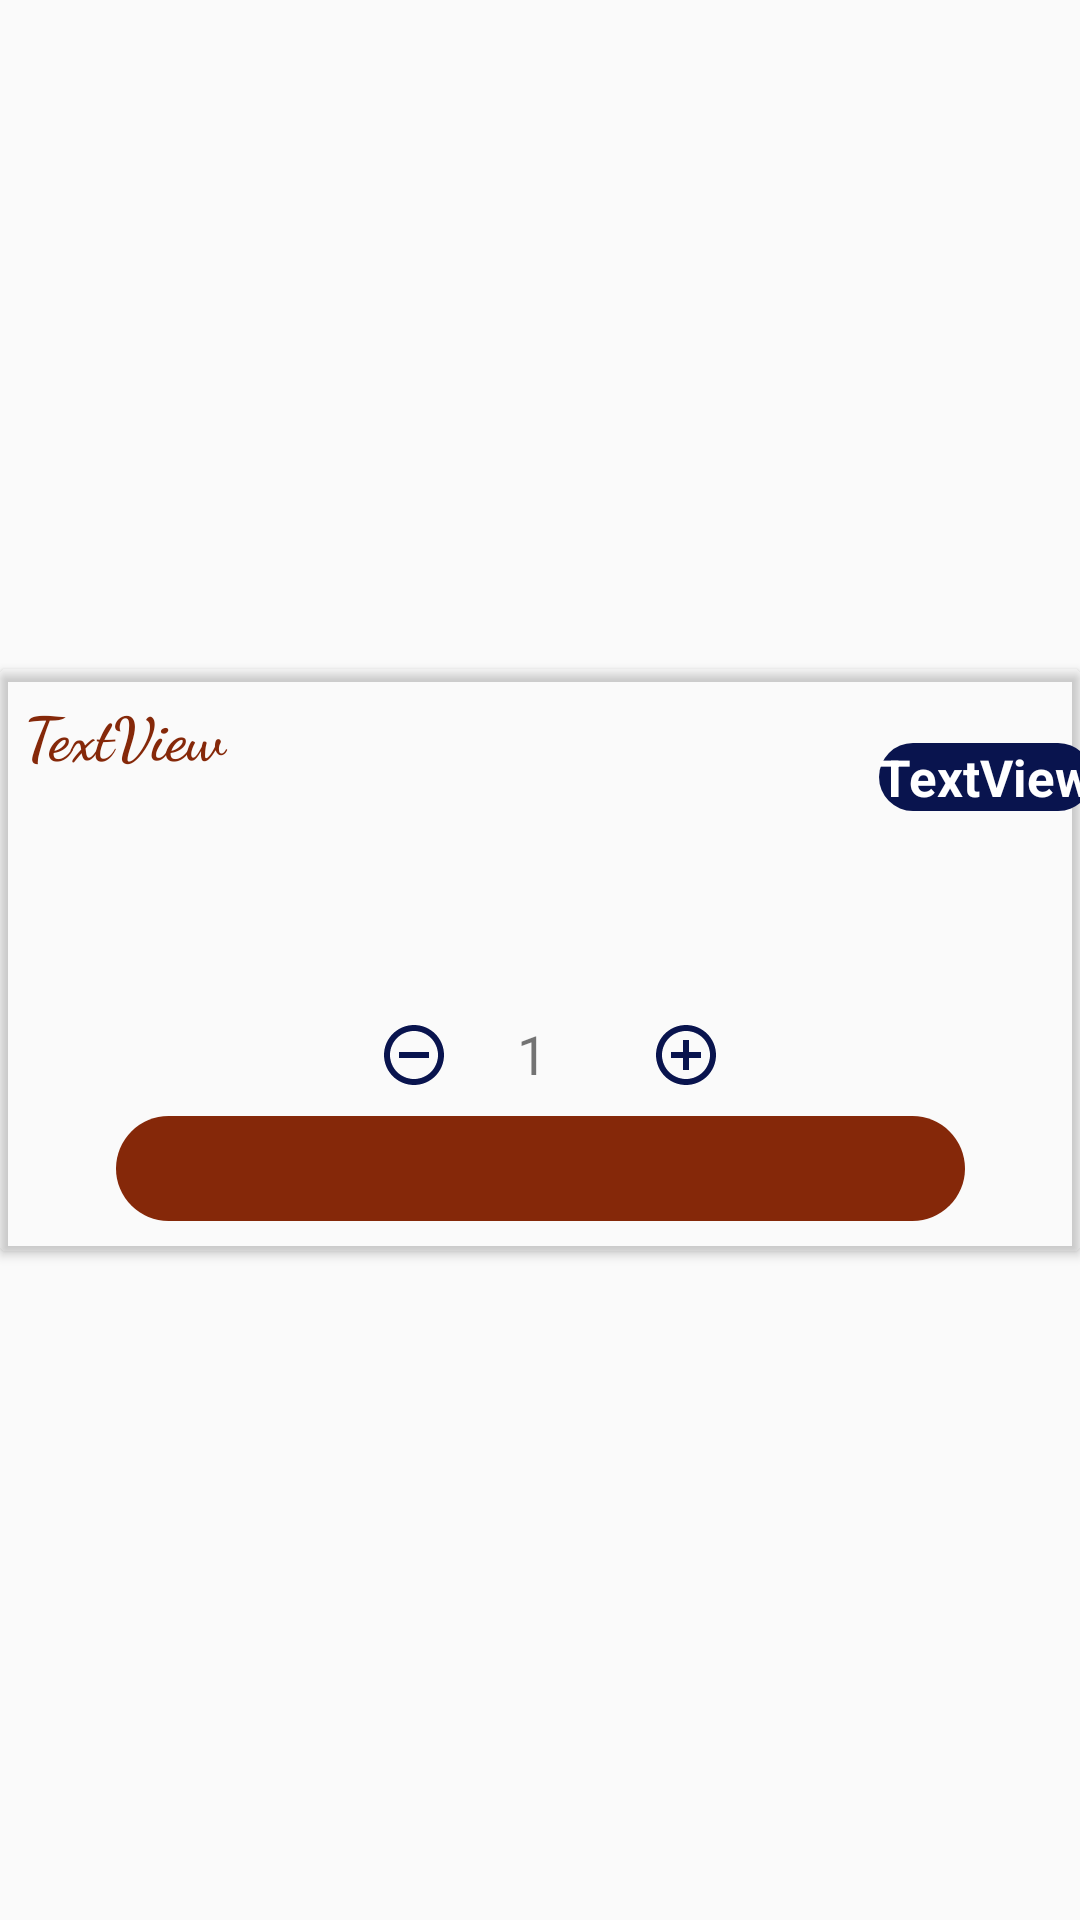

Icons on this 1080x1920 Android screen, each with its box as (x1, y1, x2, y2):
add circle: (656, 1025, 716, 1085)
remove circle: (384, 1025, 444, 1085)
